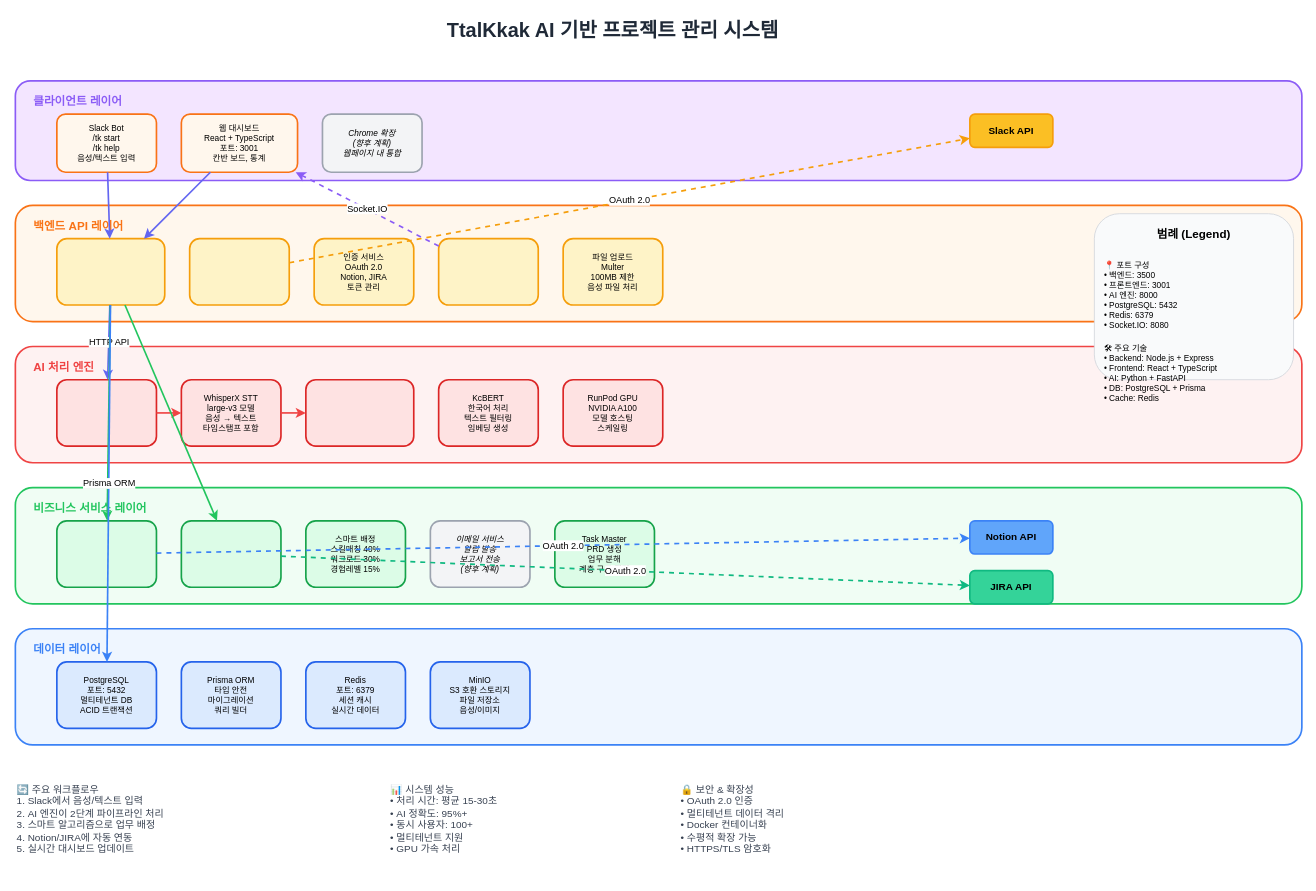
The diagram is 1316 pixels wide and 891 high, and some of its shapes have lost their labels. The shapes that lost their labels are listed below. From the top down, each one's box as (x1, y1, x2, y2) in pixels, then its label:
(56, 237, 165, 305): Express 서버 Node.js + TypeScript 포트: 3500 멀티테넌트 지원
(188, 237, 290, 305): Slack 핸들러 @slack/bolt 이벤트 처리 모달 UI
(437, 237, 539, 305): Socket.IO 실시간 통신 포트: 8080 양방향 이벤트
(56, 378, 157, 447): FastAPI 서버 Python 포트: 8000/8001 비동기 처리
(305, 378, 414, 447): Qwen3-32B-AWQ 2단계 파이프라인 회의록 → 기획안 기획안 → 업무분해
(56, 520, 157, 588): Notion 연동 @notionhq/client 페이지 자동 생성 템플릿 기반
(180, 520, 281, 588): JIRA 연동 Atlassian API Epic/Task 매핑 프로젝트 자동생성
